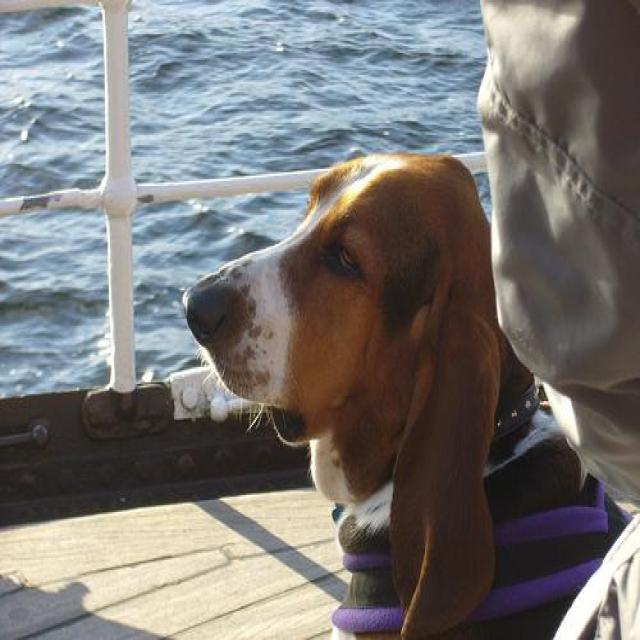basset: (178, 148, 637, 636)
